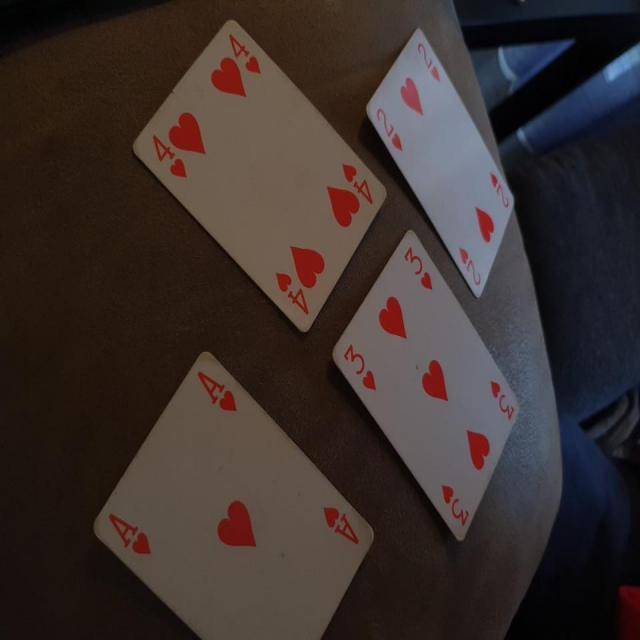2 Hearts: (360, 24, 525, 311)
3 Hearts: (326, 228, 526, 553)
4 Hearts: (121, 19, 396, 346)
A Hearts: (72, 344, 380, 637)
